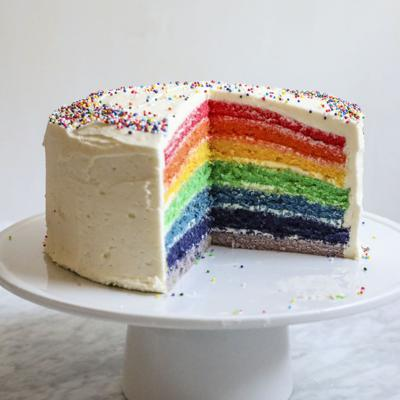cake: (41, 77, 364, 297)
